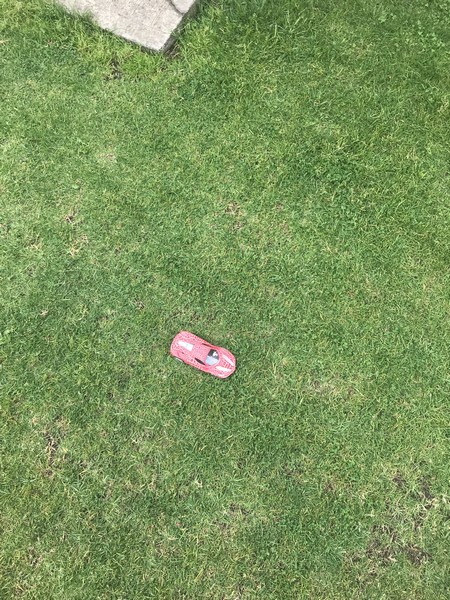RC: (168, 328, 238, 382)
